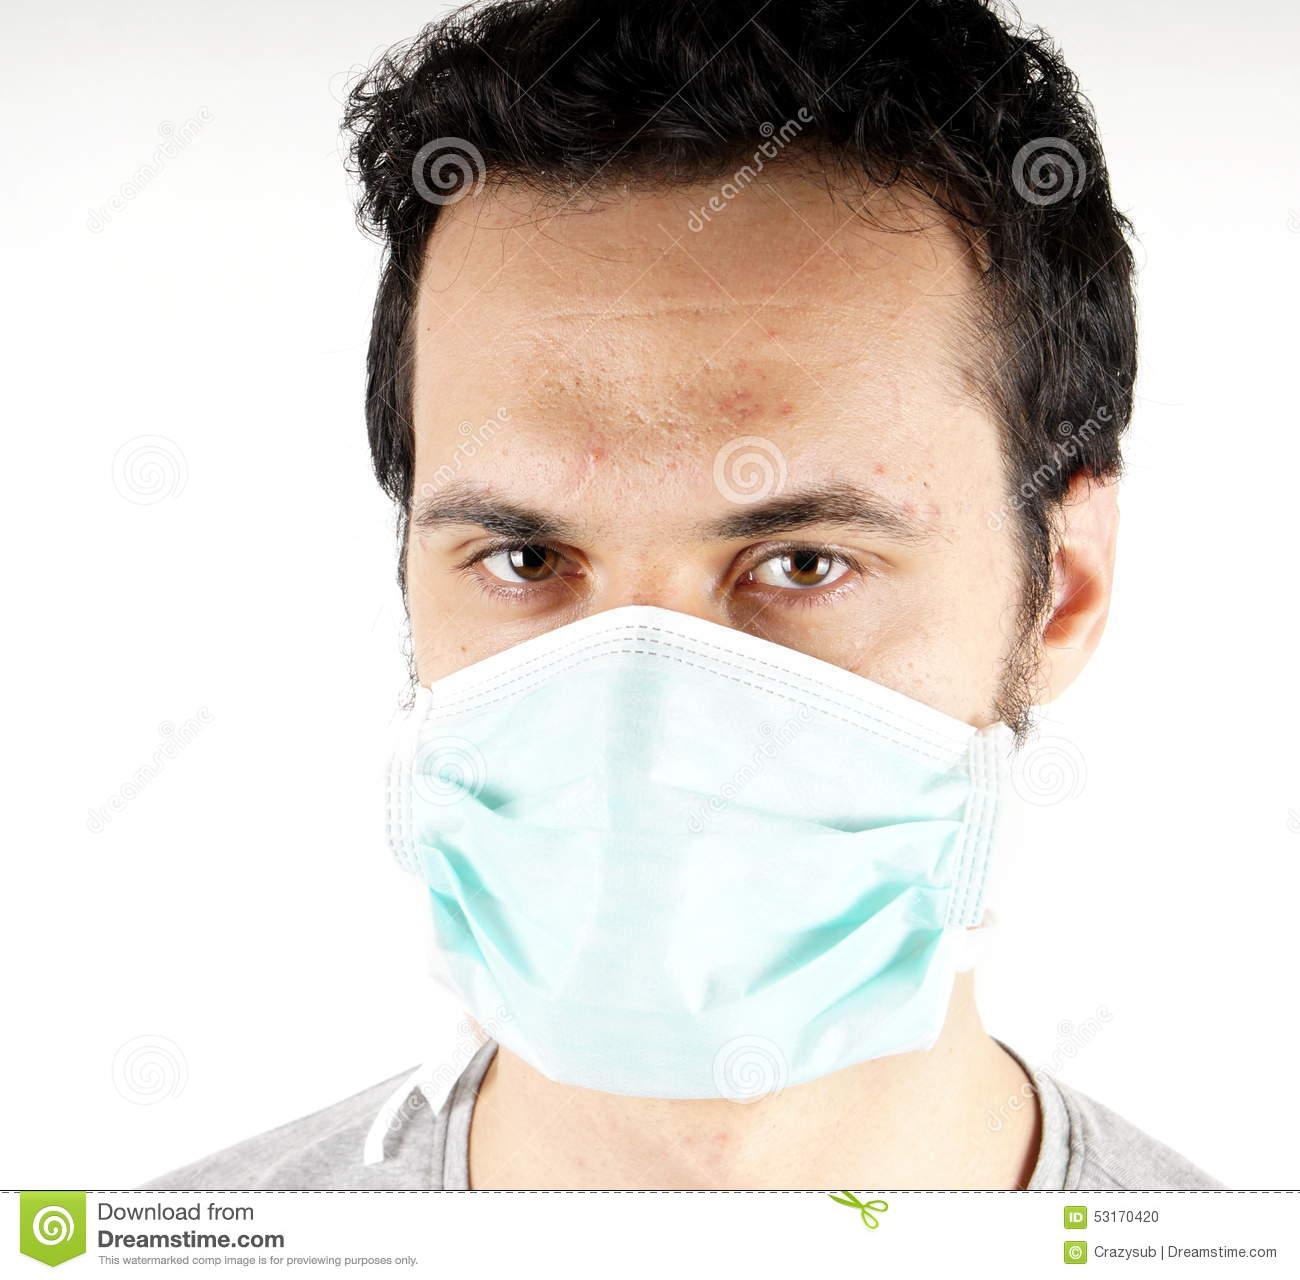mask: (365, 624, 979, 1048)
